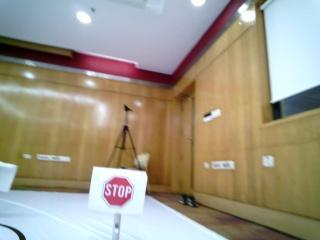stop: (92, 167, 145, 212)
